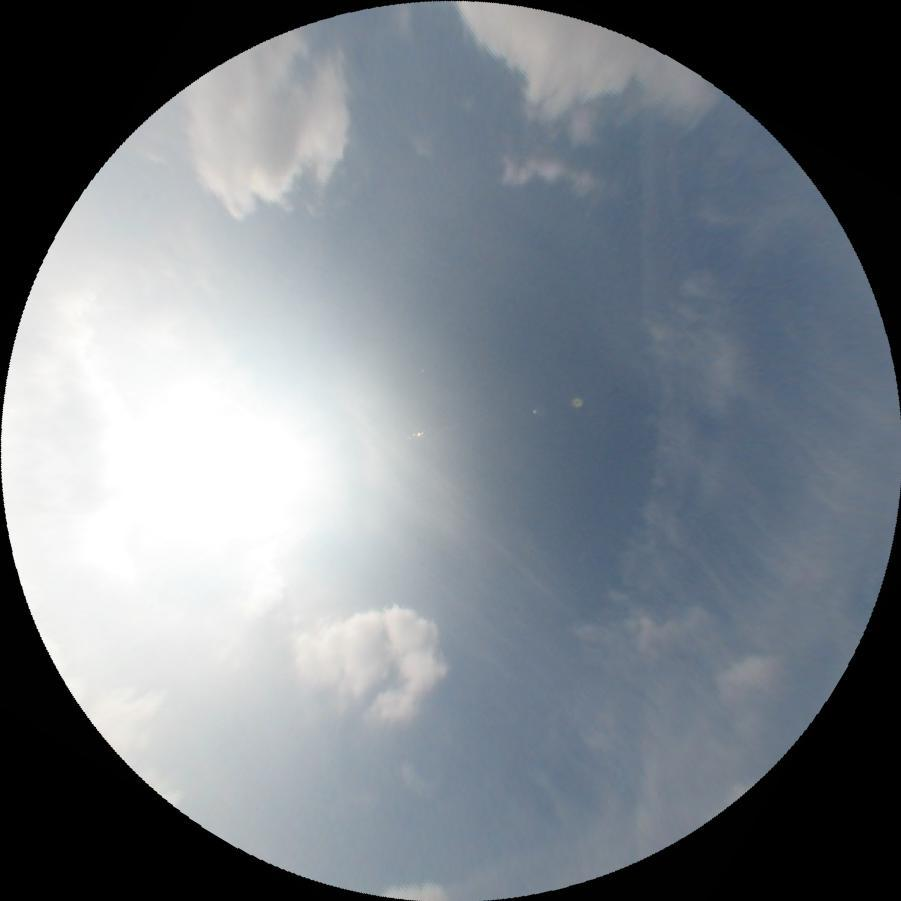contrail veryold: (638, 124, 691, 550)
sun: (141, 381, 347, 578)
